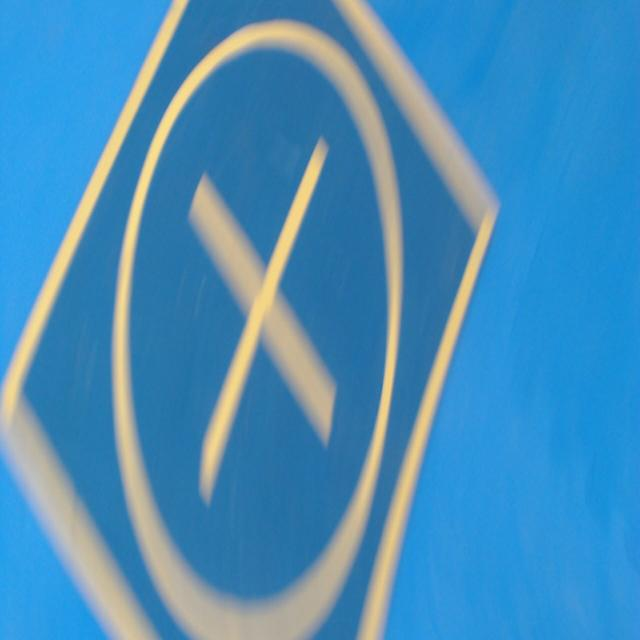base_pouso: (0, 0, 503, 639)
